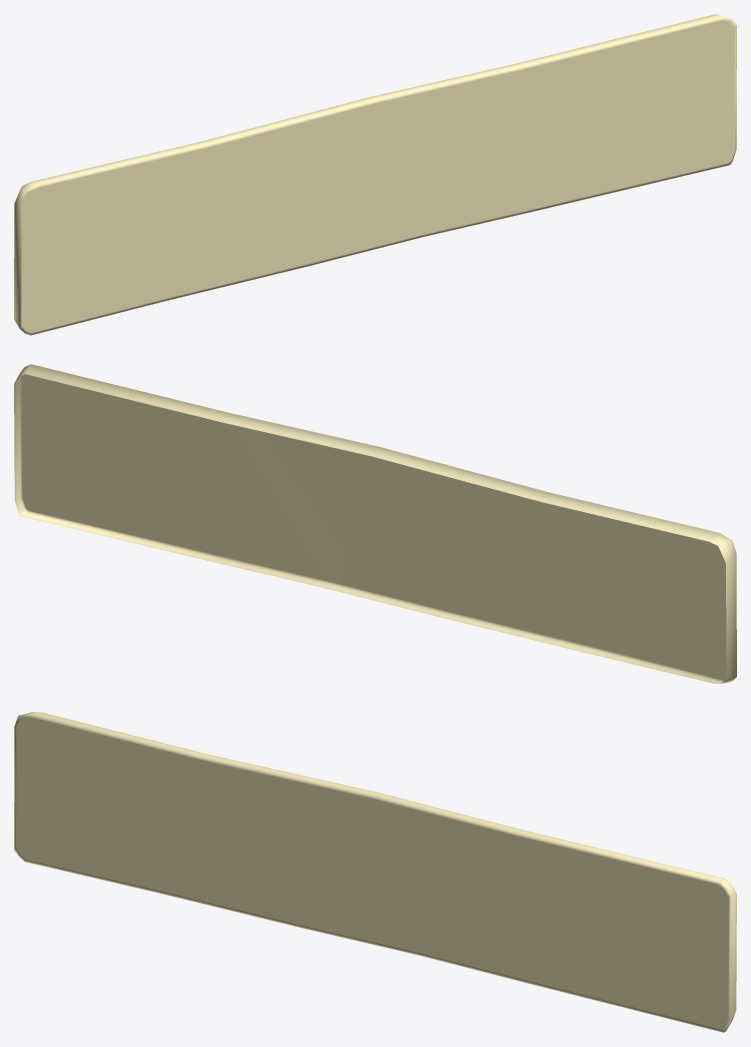
File: ui_panel_10x2.glb
The picture shows the model from 3 angles, top to bottom: view 1: azimuth 30°, elevation 25°; view 2: azimuth 150°, elevation 25°; view 3: azimuth 330°, elevation 25°; orthographic projection.
Visible parts, largest first — view 1: Cube; view 2: Cube; view 3: Cube.
Part boxes in pixels (<box>): Cube: <box>14,14,736,335</box>; Cube: <box>14,364,736,683</box>; Cube: <box>14,712,736,1032</box>.
Bounding box in the file's own units: 2 × 0.4043 × 0.0423.
